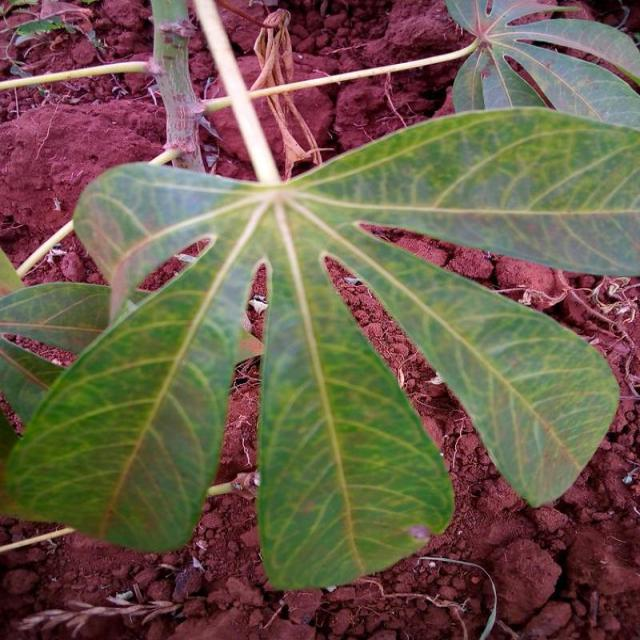cassava leaf: (5, 104, 639, 590), (320, 220, 622, 509), (3, 232, 261, 554)
